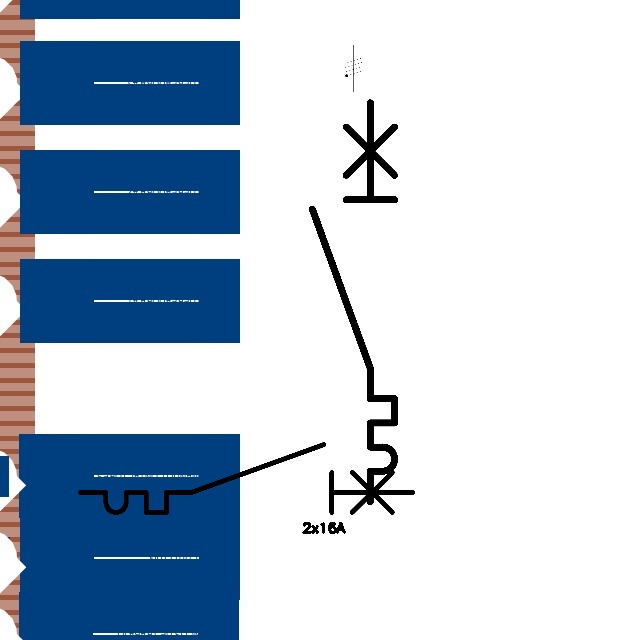interruptor_termomagnetico: (302, 92, 405, 512), (72, 436, 421, 521)
